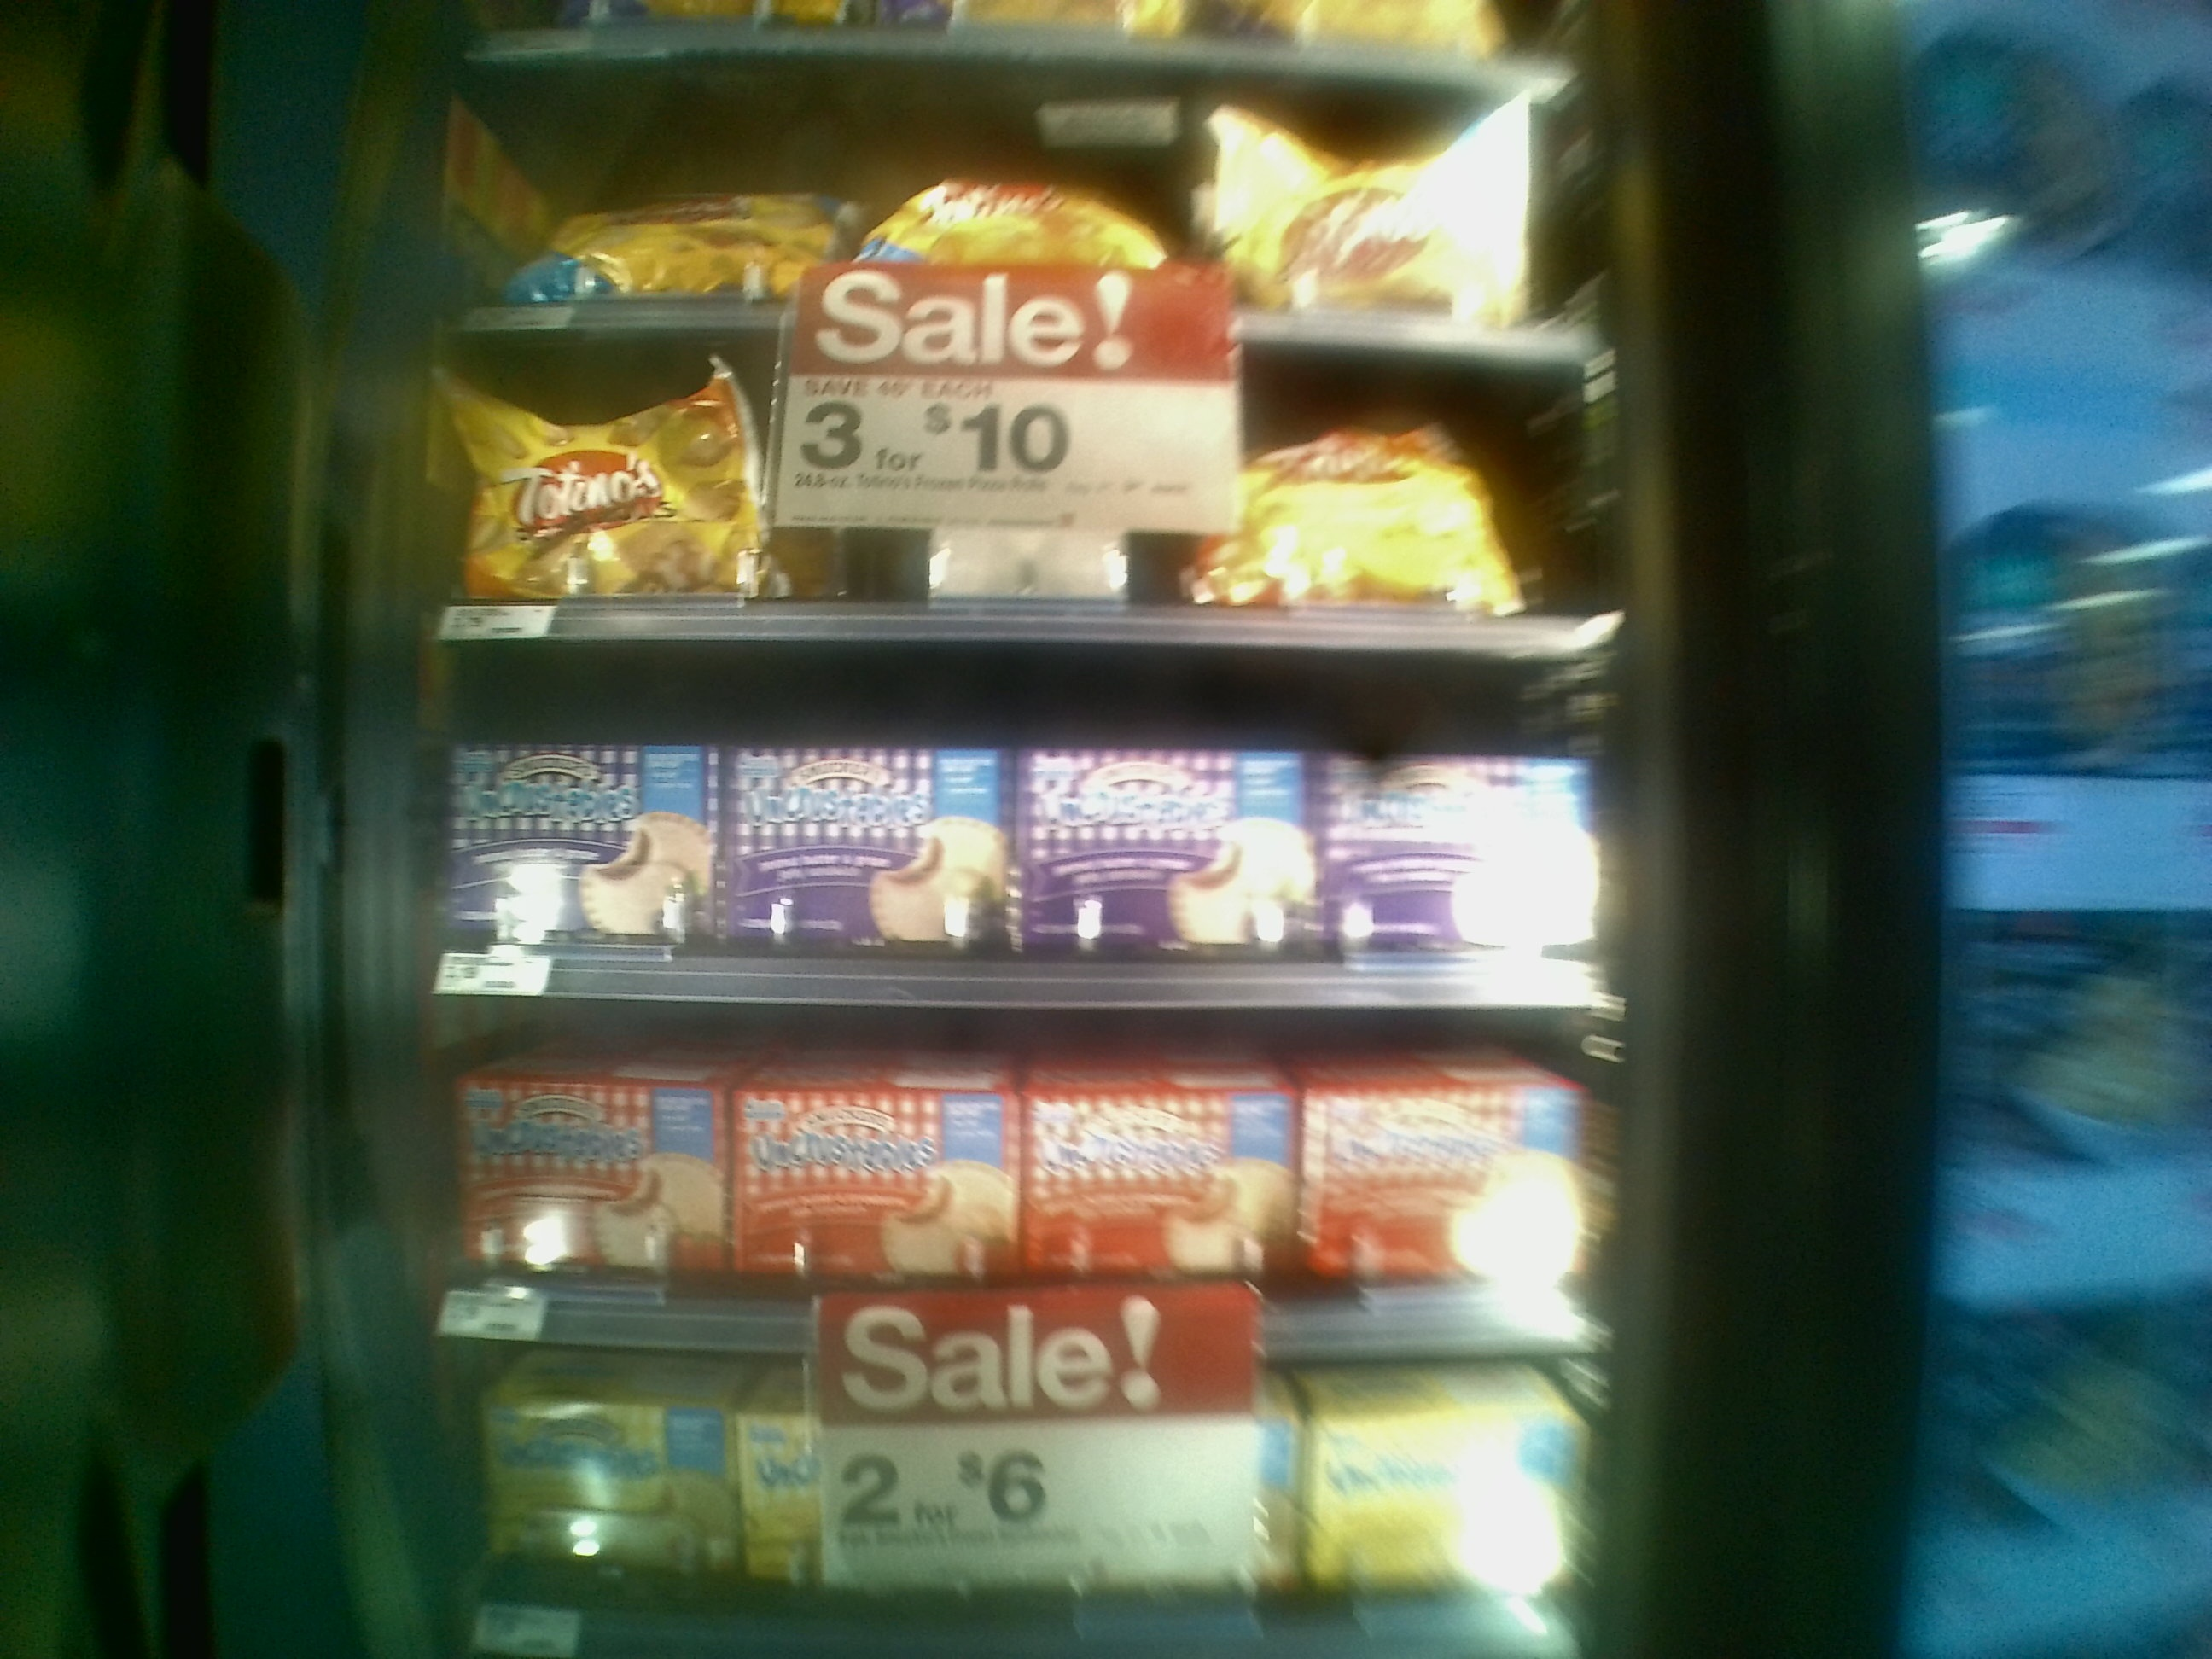shelf: (427, 605, 1602, 1004), (441, 964, 1592, 1345), (439, 308, 1594, 620)
